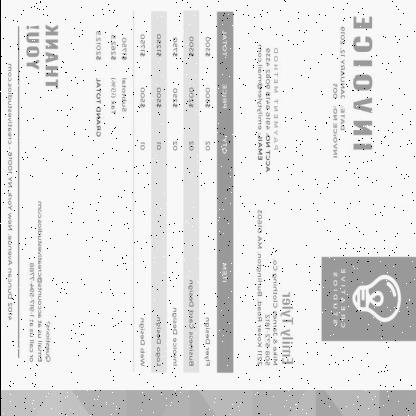Paragraph: (254, 208, 296, 370), (330, 13, 375, 162), (24, 199, 53, 367), (92, 25, 130, 144), (254, 42, 280, 176), (3, 60, 16, 324), (23, 20, 61, 92), (330, 265, 347, 332)
Table: (132, 12, 232, 374)
